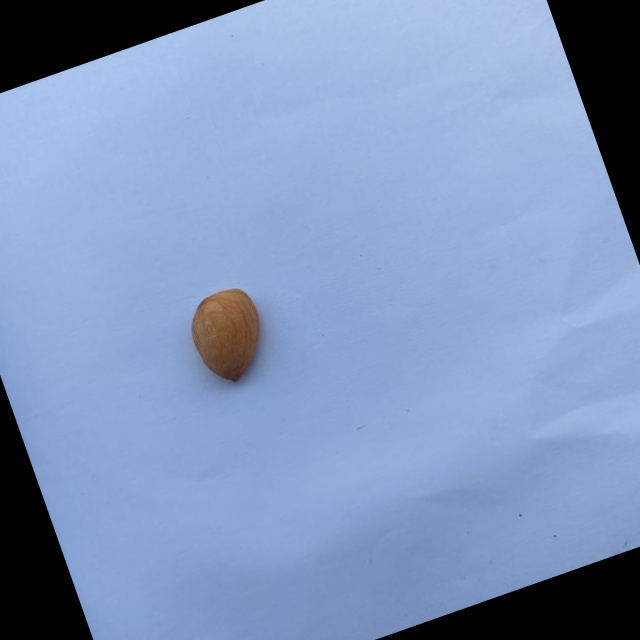grade2: (177, 277, 284, 394)
